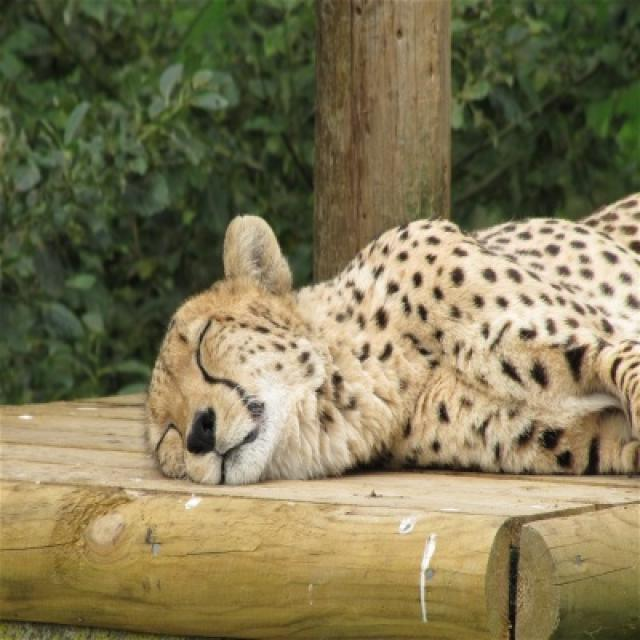Cheetah: (146, 192, 638, 488)
